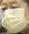with_mask: (1, 1, 29, 34)
